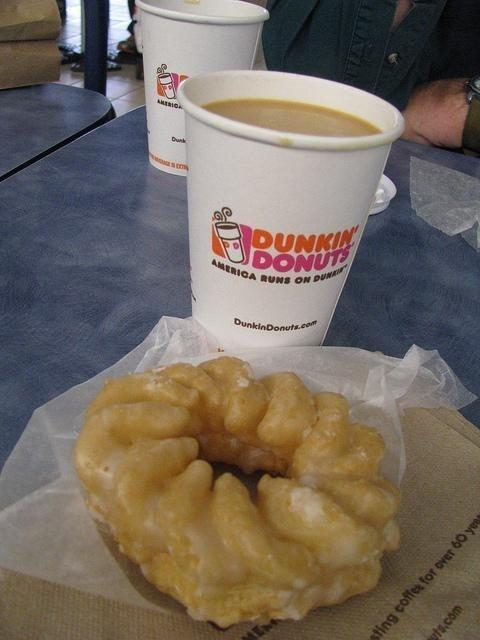cup-disposable: (178, 66, 406, 350), (137, 1, 268, 178)
